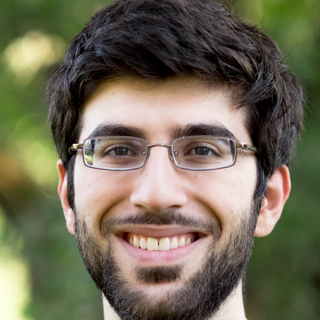eye: (178, 141, 227, 165), (100, 141, 146, 164)
